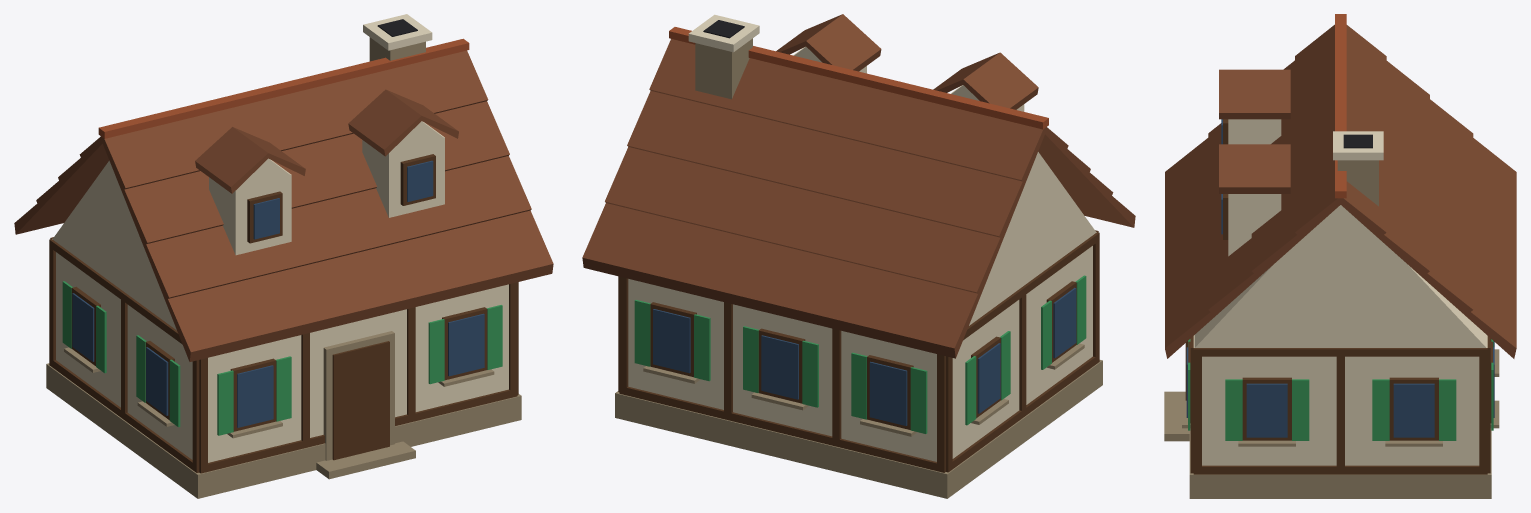
The model's file is House_07_DormerHouse.fbx.
3 renders of one model, left to right at view 1: azimuth 30°, elevation 25°; view 2: azimuth 150°, elevation 25°; view 3: azimuth 270°, elevation 25°, orthographic. The views are drawn at different scales.
Visible parts, largest first — view 1: House_07_DormerHouse; view 2: House_07_DormerHouse; view 3: House_07_DormerHouse.
Boxes of the visible parts, x1=… form: House_07_DormerHouse: x1=14, y1=14, x2=553, y2=498; House_07_DormerHouse: x1=582, y1=14, x2=1135, y2=498; House_07_DormerHouse: x1=1164, y1=14, x2=1516, y2=498.
Bounding box in the file's own units: 7.14 × 6.36 × 5.99.
